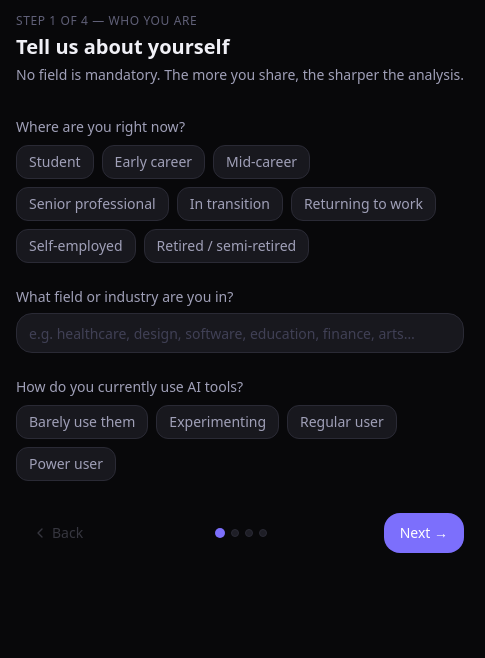
Scenario: QuestionnaireScreen › shows "Review answers" button text on last step
This screenshot has width=485, height=658.
Click the button "Next →".
click(424, 533)  # box left=384, top=513, right=464, bottom=553
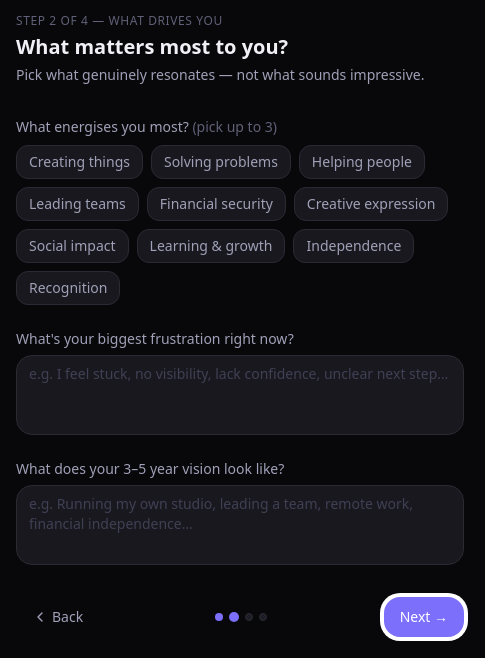
Click the button "Next →".
click(424, 617)  # box left=384, top=597, right=464, bottom=637
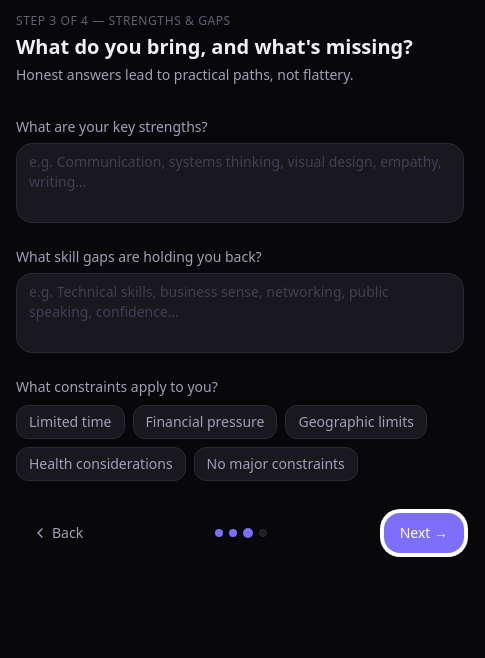
Click the button "Next →".
click(424, 533)  # box left=384, top=513, right=464, bottom=553
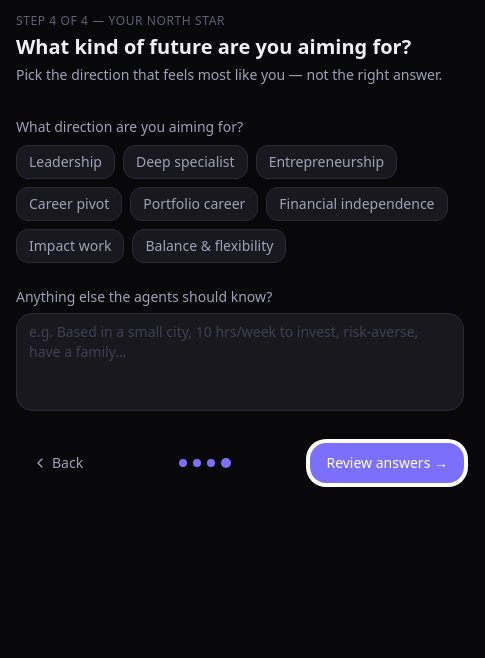
Check: the button "Review answers →" is shown, box left=310, top=443, right=464, bottom=483
